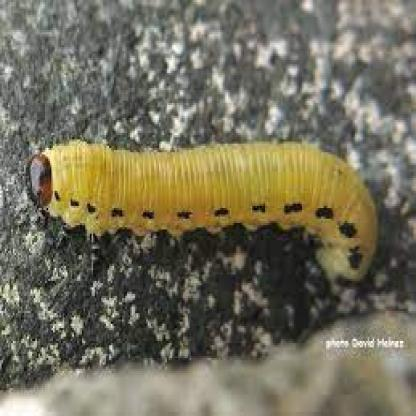sawfly: (25, 133, 382, 298)
